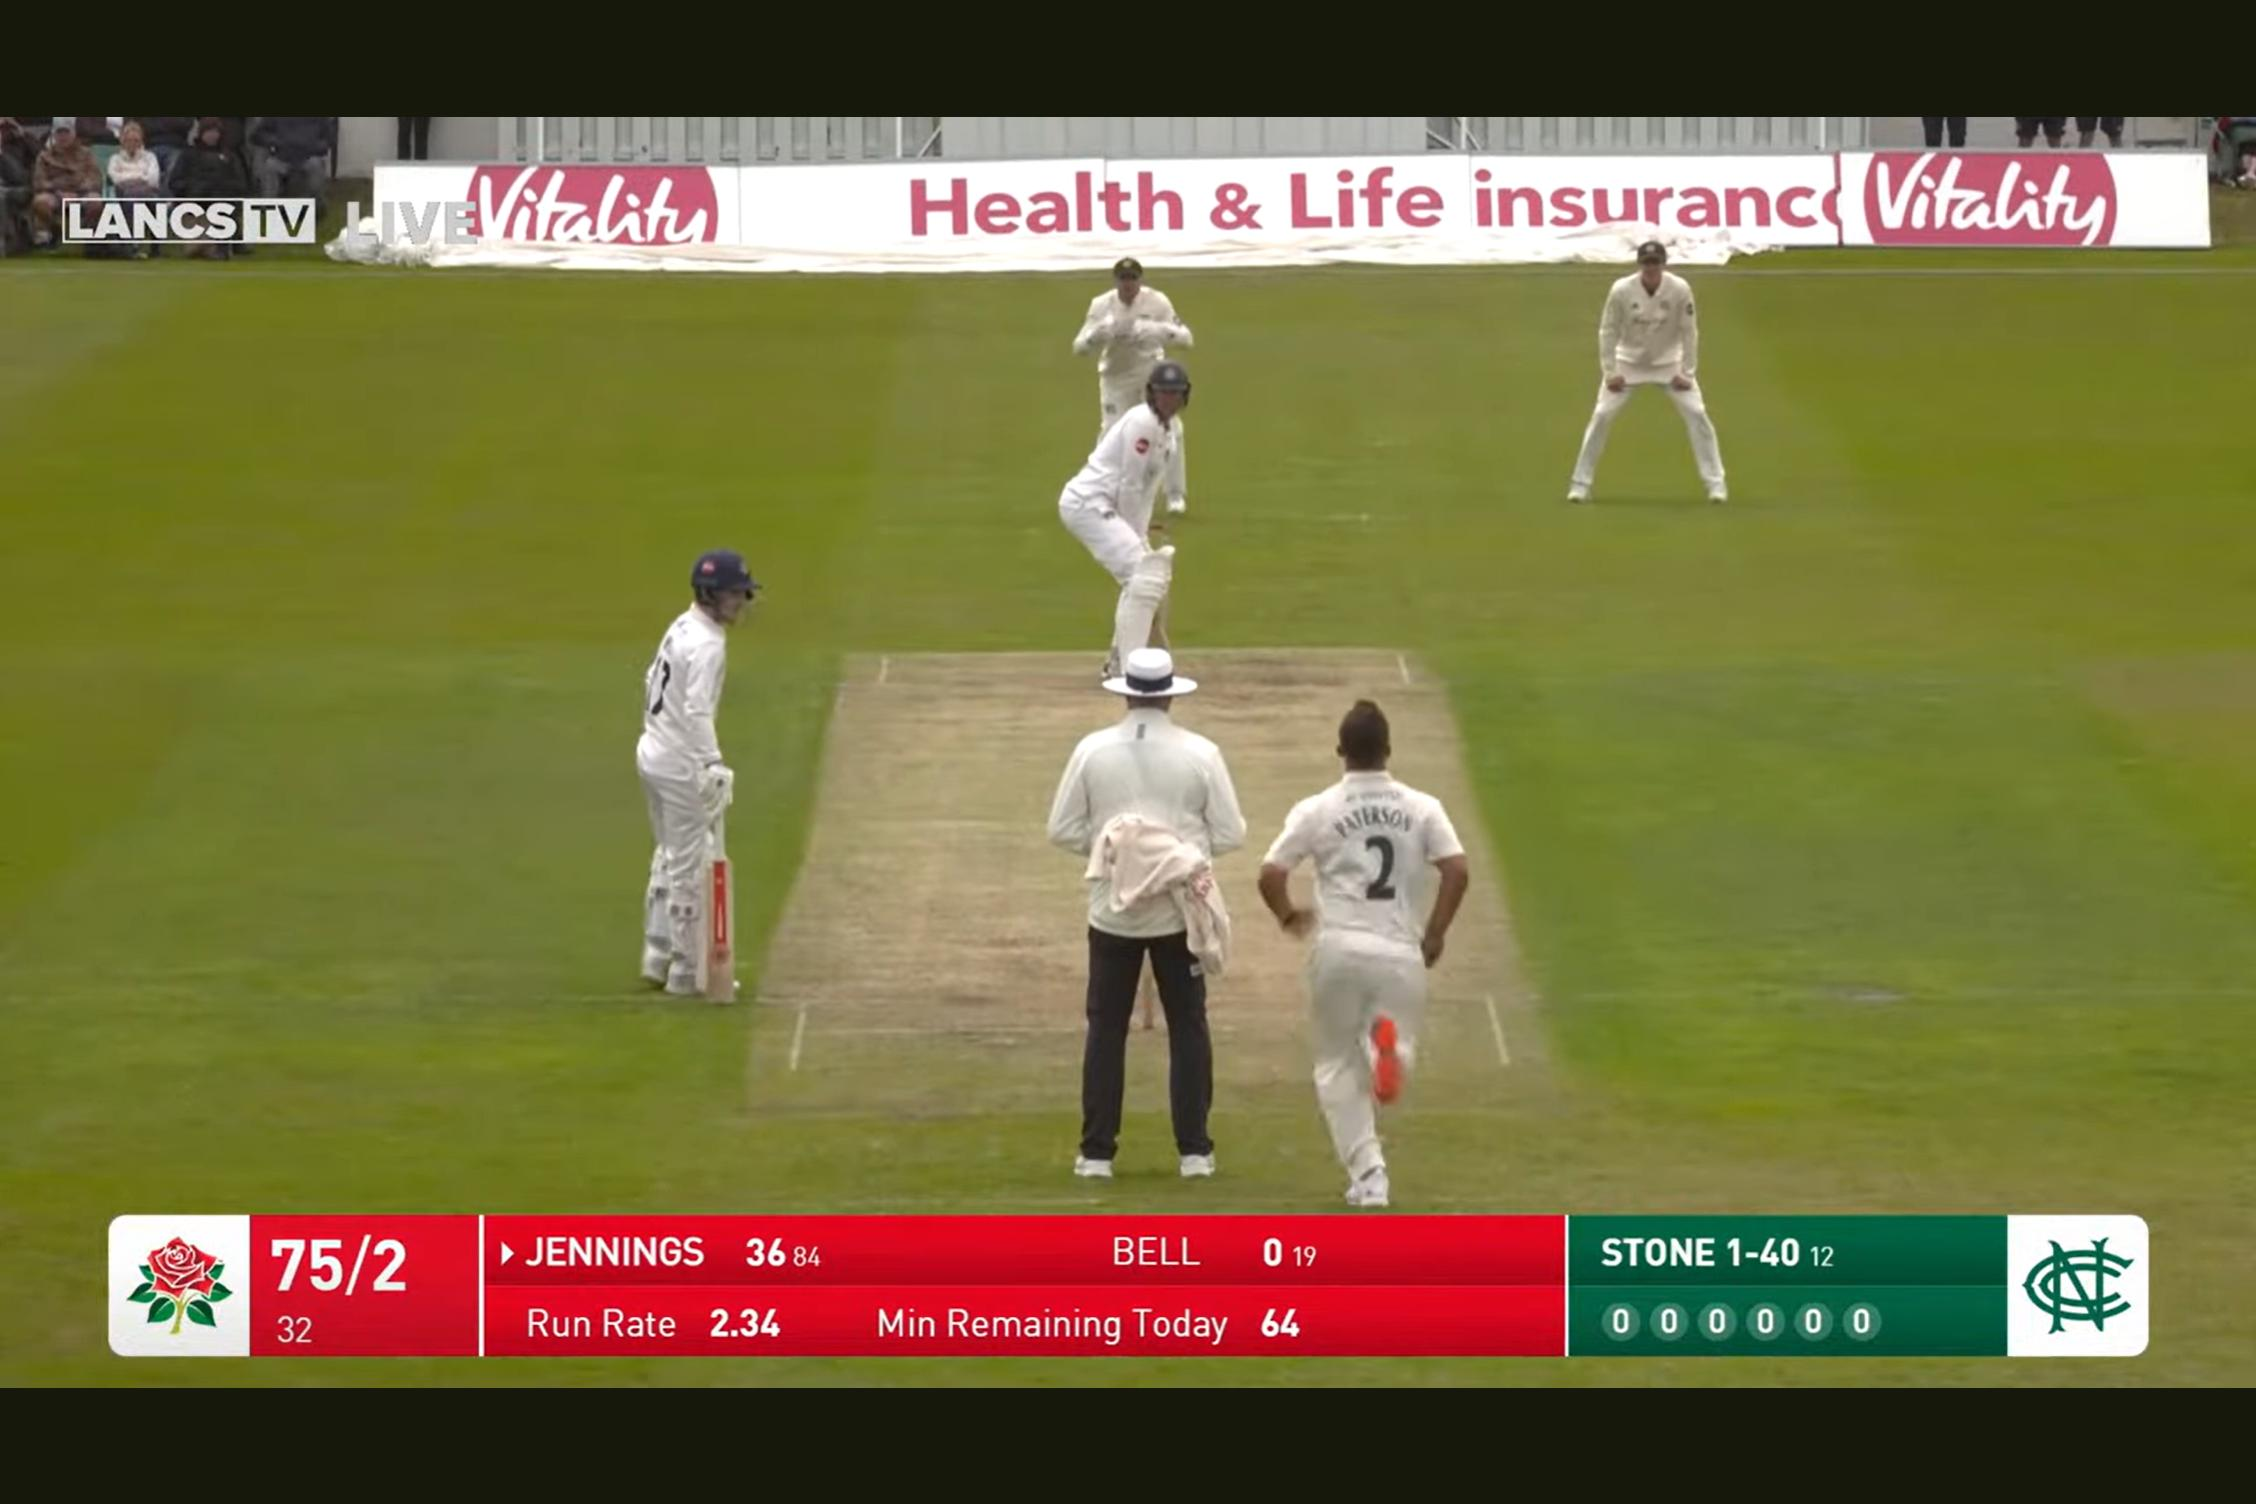batsman: (1049, 361, 1235, 645)
bowler running in: (1254, 698, 1479, 1177)
non striker: (616, 534, 799, 1005)
umpire: (1071, 653, 1237, 1178)
